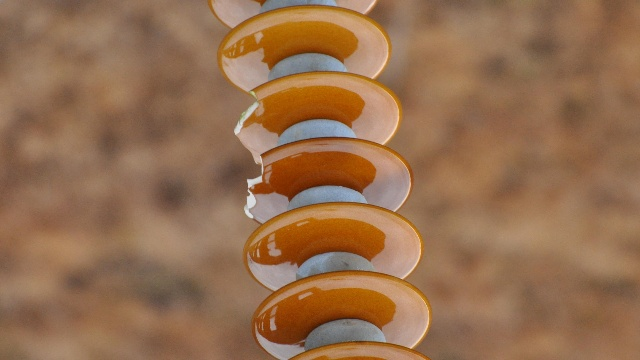broken_local: (232, 85, 262, 168), (241, 149, 267, 222)
insulator_unspecified: (208, 0, 430, 359)
